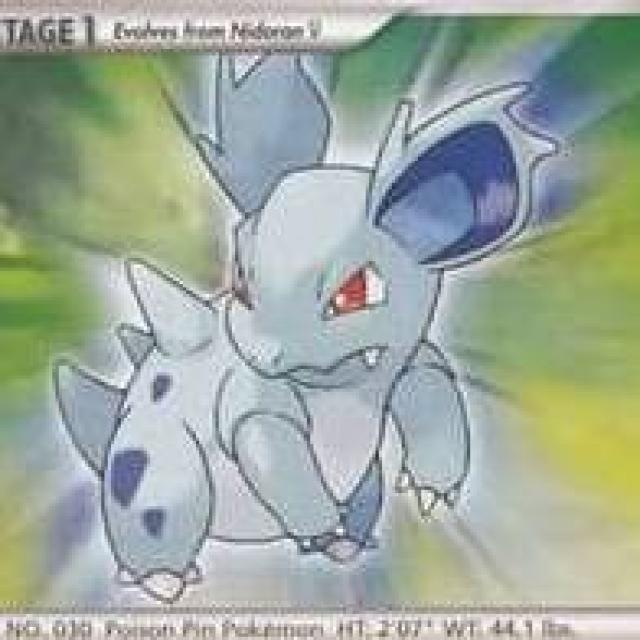Nidorina: (66, 61, 550, 621)
